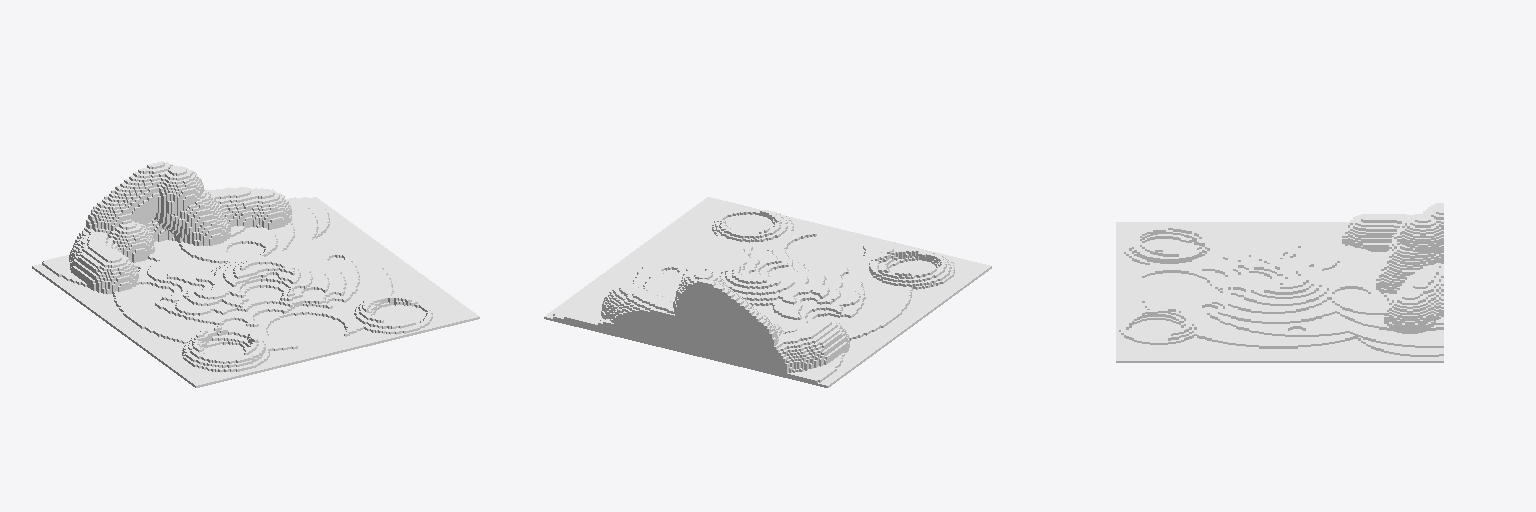
File: LunarBorder3.obj
3 renders of one model, left to right at view 1: azimuth 30°, elevation 25°; view 2: azimuth 150°, elevation 25°; view 3: azimuth 270°, elevation 25°, orthographic.
Bounding box in the file's own units: 126 × 32 × 126.